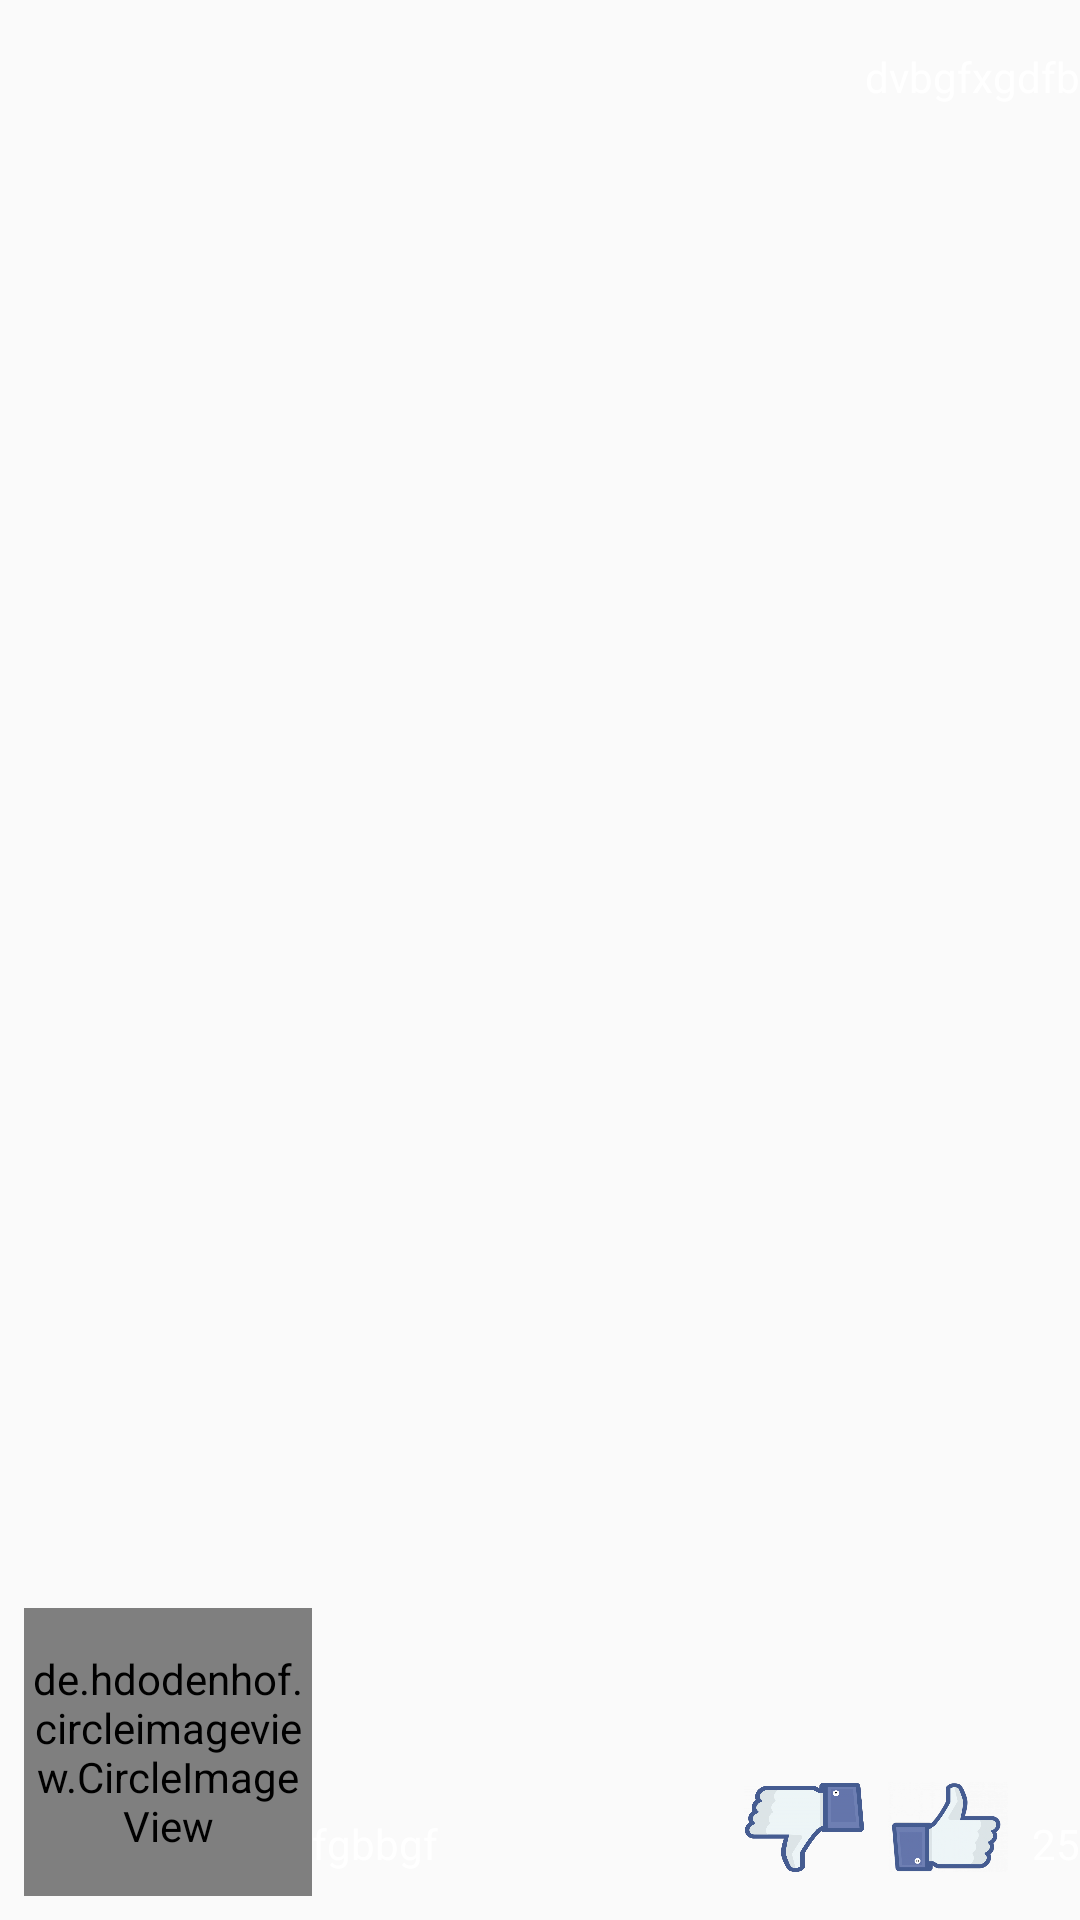

Where icons sit on this 1080 x 1920 app screen, as (x1,y1,x2,y2):
dislike: (745,1783,864,1872)
